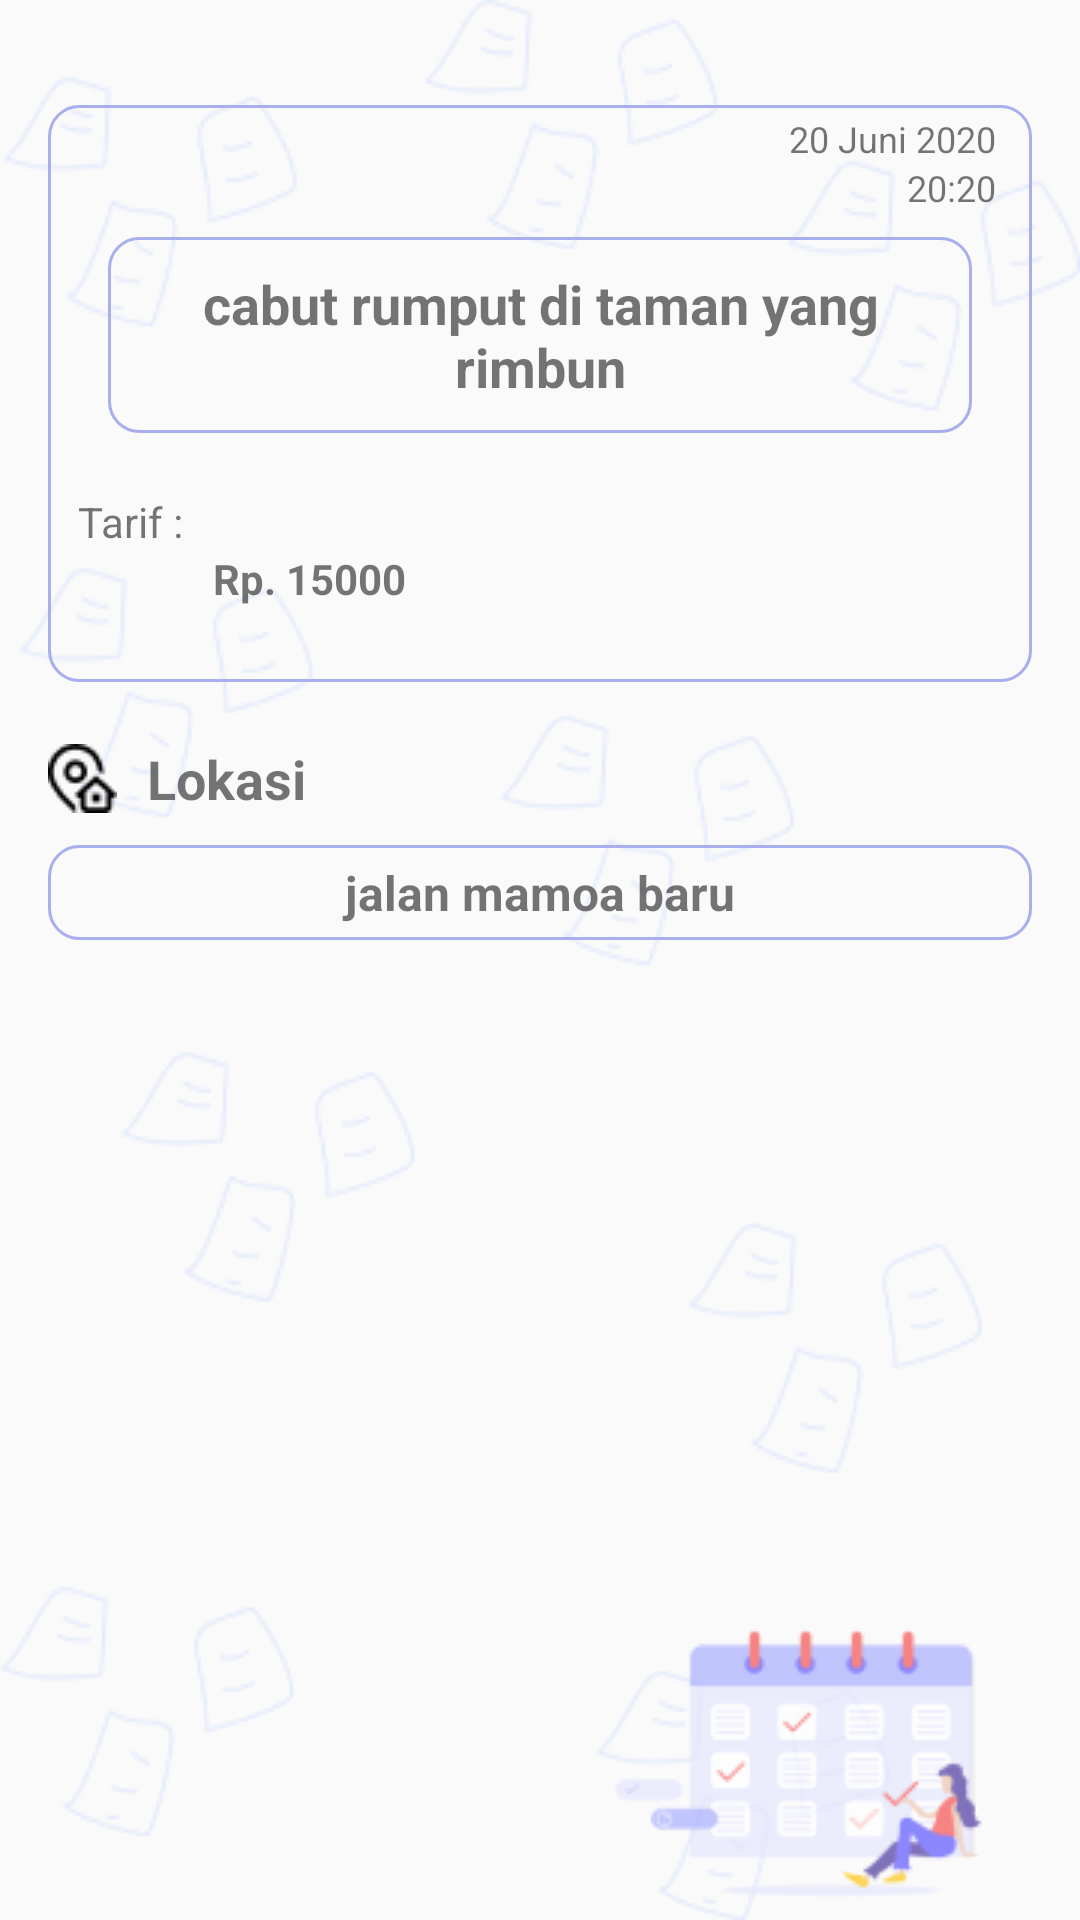

Screen size 1080w x 1920h. Icon name, then its box in pixels as [x1,y1,x2,y2]:
multitasking: [625,1631,982,1888]
